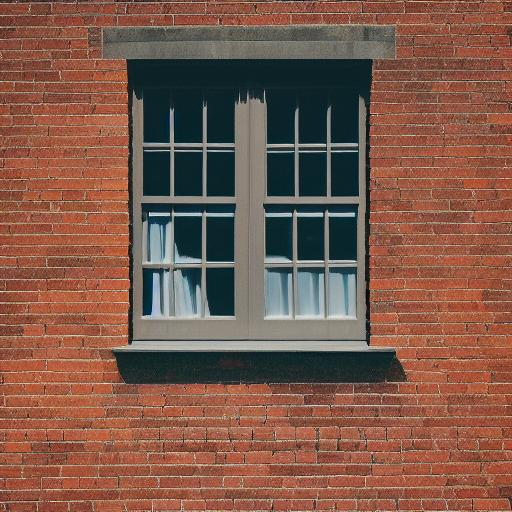Window: (101, 26, 403, 362)
